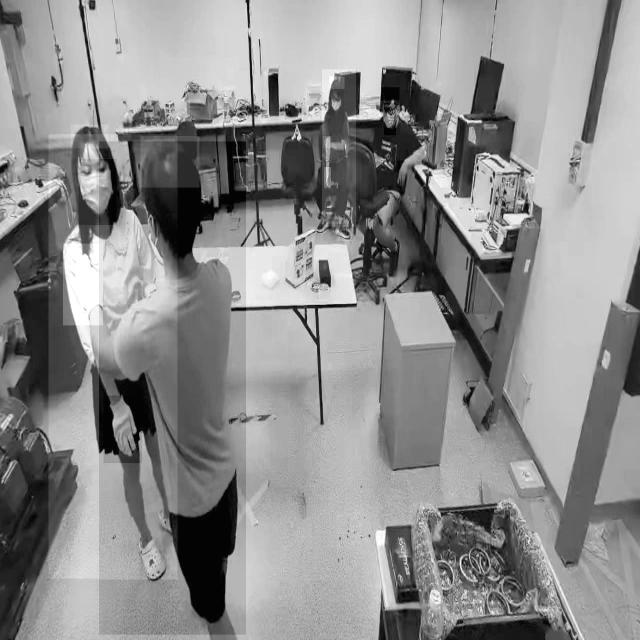face_mask: (78, 159, 116, 225), (328, 91, 344, 121), (384, 103, 396, 135)
hand_glove: (63, 244, 103, 326), (104, 396, 142, 464)
hand_noglove: (397, 161, 408, 188), (324, 167, 332, 189), (323, 136, 332, 149)
head_nohelmet: (140, 136, 200, 188), (71, 124, 109, 150), (381, 87, 400, 101), (329, 76, 345, 90)
person: (99, 142, 247, 636), (49, 134, 178, 580), (367, 90, 430, 280), (322, 70, 356, 228)
shoes: (383, 235, 402, 280), (335, 215, 351, 240), (316, 212, 329, 235)
